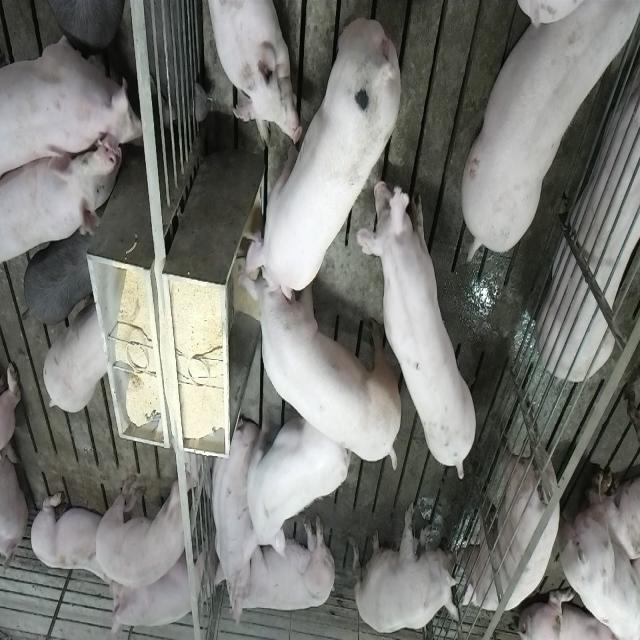Feeding: (240, 15, 404, 304), (240, 257, 408, 475)
Lateral_lying: (224, 512, 338, 628)
Sitting: (353, 502, 461, 634)
Standing: (458, 0, 634, 258), (362, 177, 479, 479), (2, 23, 142, 192), (454, 406, 560, 612), (244, 404, 350, 560), (2, 133, 122, 270), (562, 471, 640, 640), (92, 466, 200, 584), (22, 212, 98, 326), (42, 298, 108, 413), (33, 0, 123, 48)
Sternal_lying: (540, 40, 640, 380), (204, 0, 297, 146), (206, 406, 260, 600), (29, 488, 114, 592)
